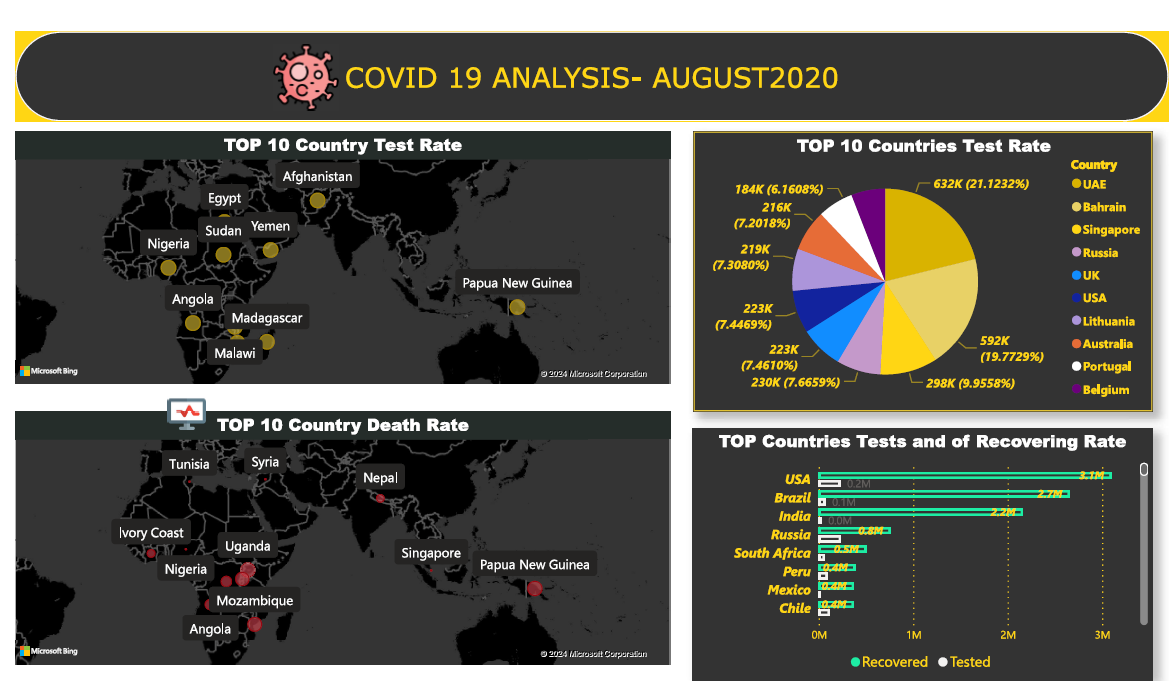

What the dashboard file says about the page in this screenshot:
{"tool":"powerbi","page":{"name":"COVID 19","canvas":[1280,720],"ordinal":0},"visuals":[{"type":"map","title":"TOP 10 Country Death Rate","fields":{"Category":["covid-output.Country"],"Size":["Sum(covid-output.Rank_by_Death_rate)"]},"box":[0,421.7,727.3,279.9],"z":0},{"type":"map","title":"TOP 10 Country Test Rate","fields":{"Category":["covid-output.Country"]},"box":[0,111.2,727.3,279.9],"z":1000},{"type":"shape","box":[0,0,1279.9,99],"z":1500},{"type":"pieChart","title":"TOP 10 Countries Test Rate","fields":{"Category":["covid-output.Country"],"Y":["Sum(covid-output.Tests)"]},"box":[753.3,111.1,509.1,310.1],"z":2000},{"type":"clusteredBarChart","title":"TOP Countries Tests  and of Recovering Rate","fields":{"Category":["covid-output.Country"],"Y":["Sum(covid-output.Total_Recovered)","Sum(covid-output.Total_Tests)"]},"box":[751.8,440.1,509.7,279.9],"z":3000},{"type":"image","box":[281.2,8.6,83.1,83.1],"z":4001},{"type":"image","box":[163.8,394.8,52.6,52.6],"z":7002}]}

Visuals, with their boxes in screenshot pixels (x1, y1, x2, y2):
"TOP 10 Country Death Rate" map: BBox(9, 409, 668, 663)
"TOP 10 Country Test Rate" map: BBox(9, 128, 668, 382)
shape: BBox(9, 28, 1168, 117)
"TOP 10 Countries Test Rate" pieChart: BBox(691, 128, 1152, 409)
"TOP Countries Tests  and of Recovering Rate" clusteredBarChart: BBox(690, 426, 1151, 679)
image: BBox(264, 35, 339, 111)
image: BBox(157, 385, 205, 433)
